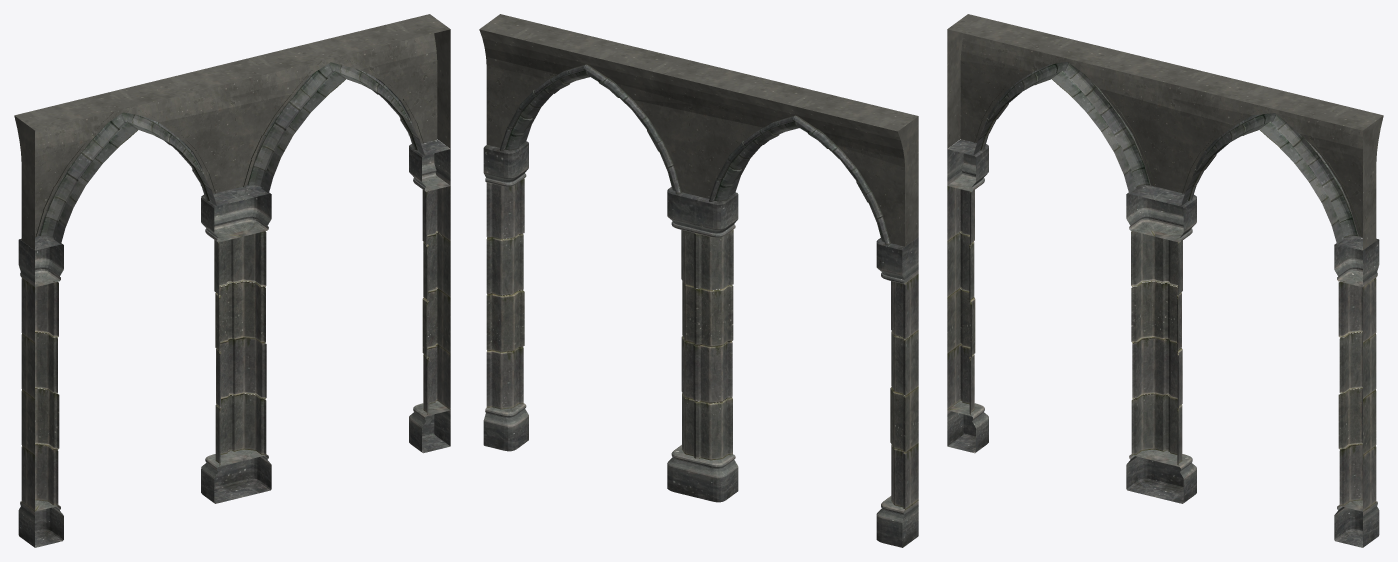
3 views of the same model, side by side, from view 1: azimuth 30°, elevation 25°; view 2: azimuth 150°, elevation 25°; view 3: azimuth 330°, elevation 25° (orthographic).
Parts seen in each view (by area): view 1: SM_SaradominTemple_Arch_12x12_01_LOD0; view 2: SM_SaradominTemple_Arch_12x12_01_LOD0; view 3: SM_SaradominTemple_Arch_12x12_01_LOD0.
Part boxes in pixels (bbox=[...]): SM_SaradominTemple_Arch_12x12_01_LOD0: bbox=[14, 14, 450, 547]; SM_SaradominTemple_Arch_12x12_01_LOD0: bbox=[479, 14, 918, 547]; SM_SaradominTemple_Arch_12x12_01_LOD0: bbox=[947, 14, 1383, 547].
Bounding box in the file's own units: 12 × 11.51 × 1.05.
3 materials, 3 textured.
